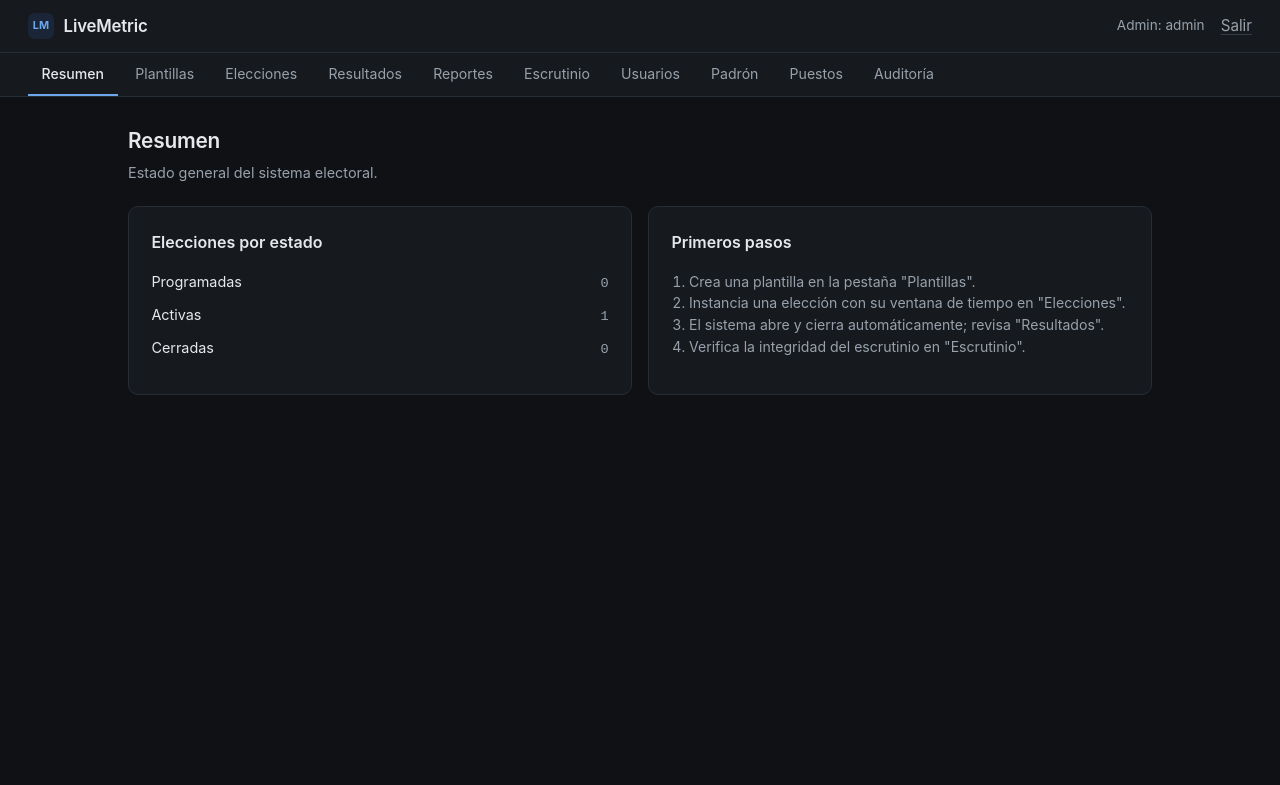
Test: Elecciones › confirmada, la detiene
Click the button "Elecciones" at [261, 74], box [212, 53, 311, 96]
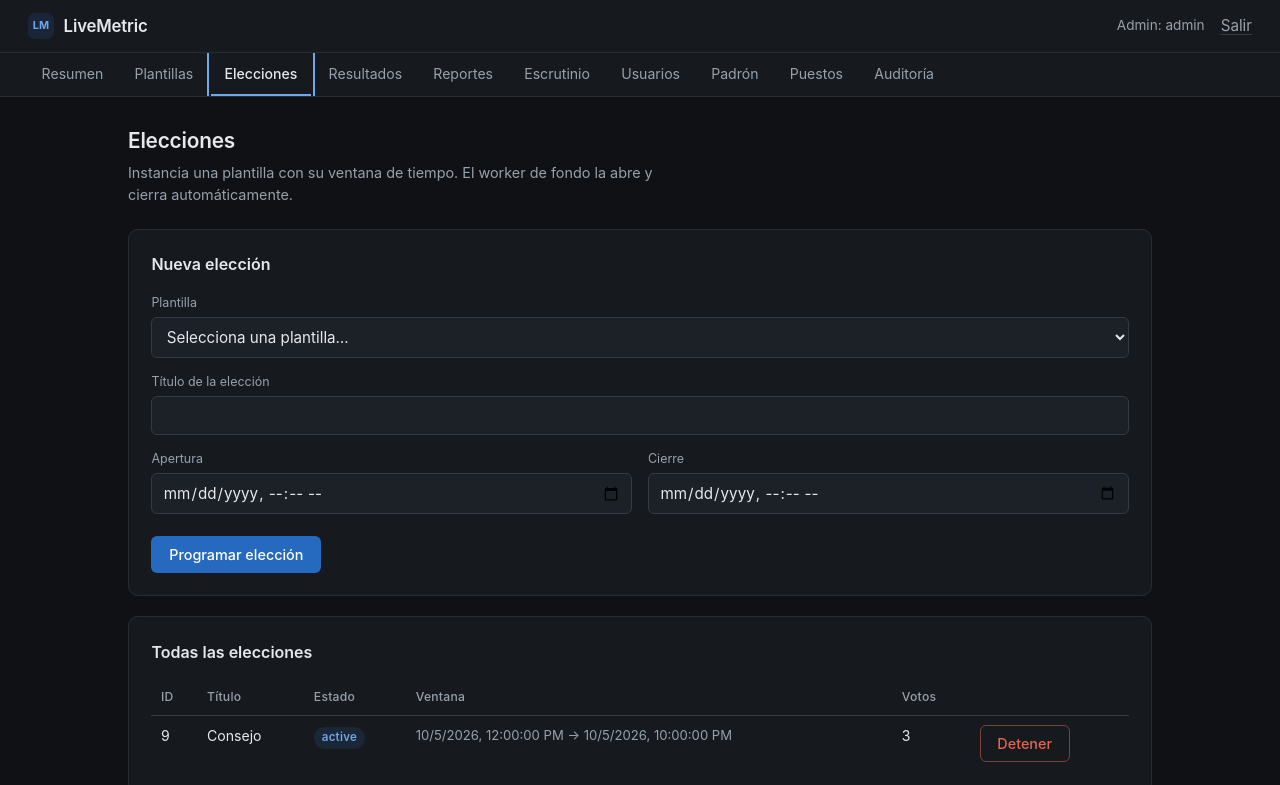
Click the button "Detener" at [1025, 743], box [980, 725, 1070, 762]
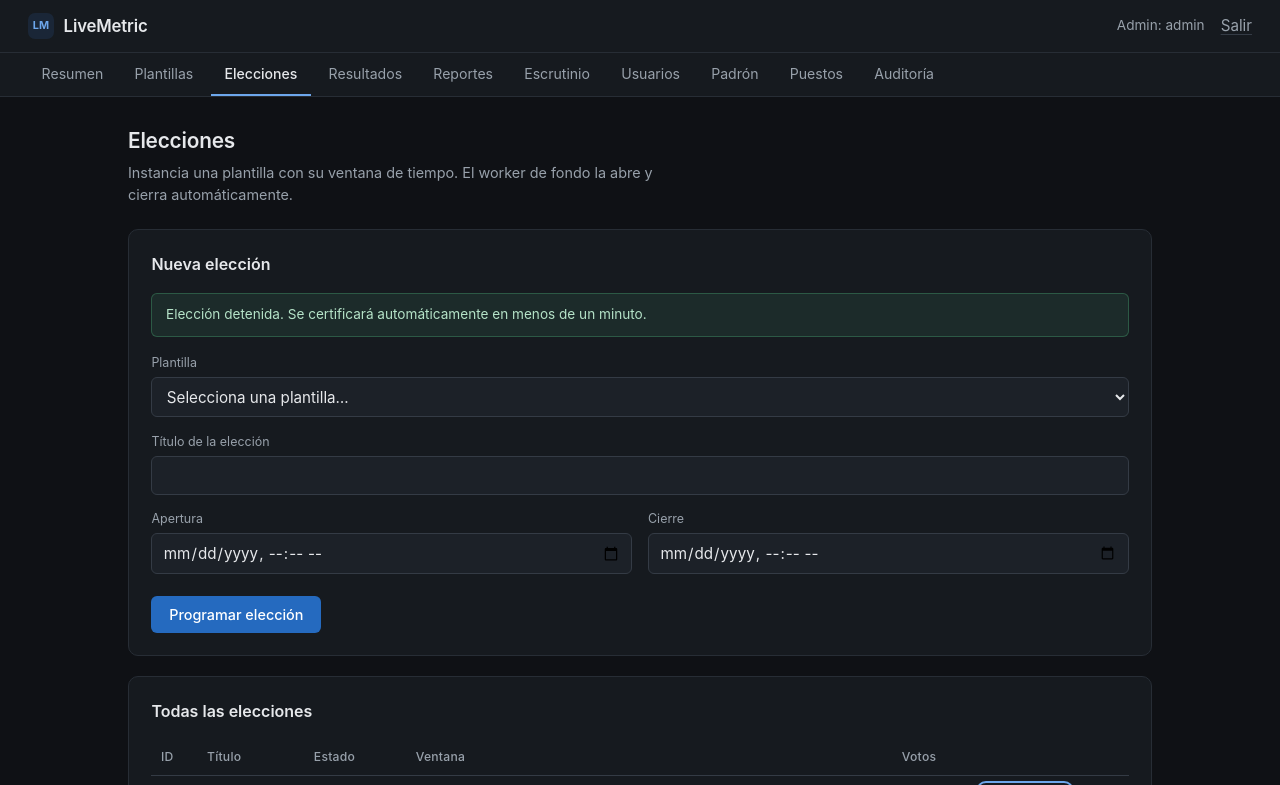
Check: the text "Elección detenida" is shown, box [166, 306, 647, 322]
